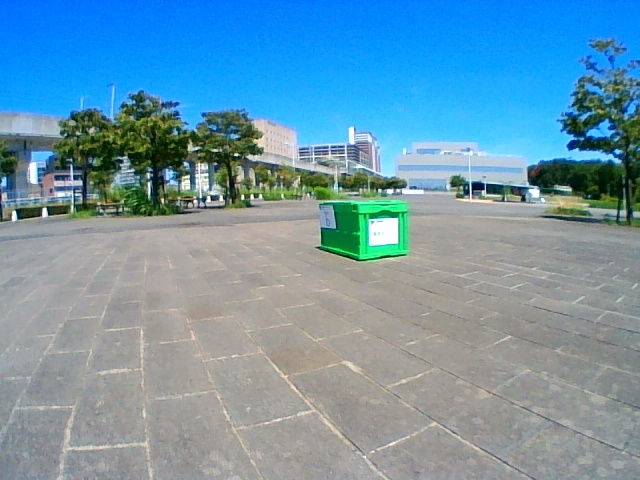green_box: (317, 200, 408, 262)
tag_b: (320, 205, 333, 228)
